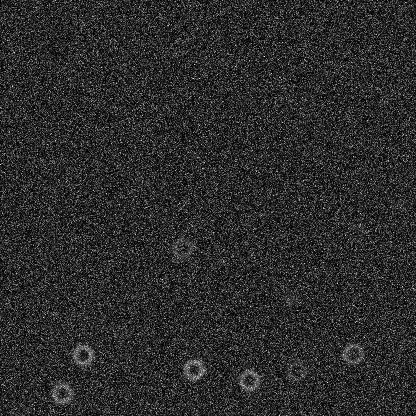Ring: (237, 368, 261, 392), (343, 220, 367, 244), (170, 236, 194, 260), (70, 342, 94, 366), (284, 358, 308, 382), (50, 381, 74, 405), (181, 357, 205, 381), (341, 341, 365, 365)
Spot: (392, 195, 408, 211), (282, 292, 298, 308)
